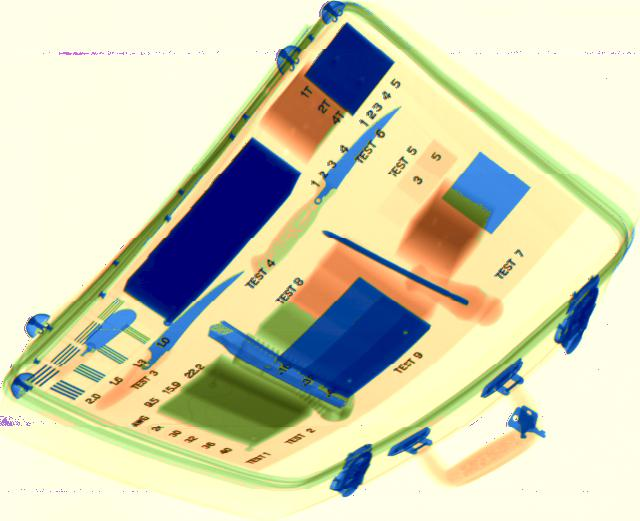Knife: (248, 106, 402, 281), (138, 270, 246, 379), (82, 308, 135, 360)
